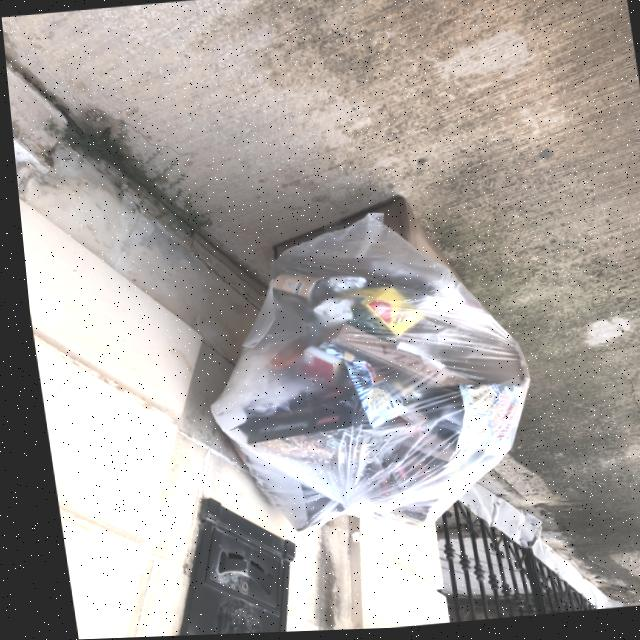Organic Waste -White Bag-: (175, 198, 543, 549)
